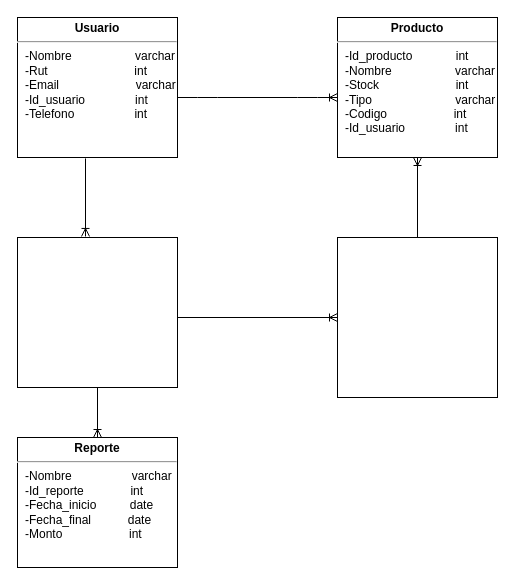
Some shapes in this 515 by 585 pixel diagram are drawn without their labels. The shapes that lost their labels are listed below. From the top down, each one's centre as x and y in pixels, then its label:
At [97,312]: "Venta -Fecha date -Monto int -Codigo_venta int -Hora time".
At [417,317]: "Detalle_venta -Codigo_venta int -Id_producto int -Cantidad int".
